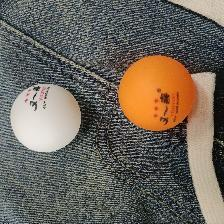WhiteBall: (9, 82, 81, 152)
YellowBall: (117, 54, 195, 131)
